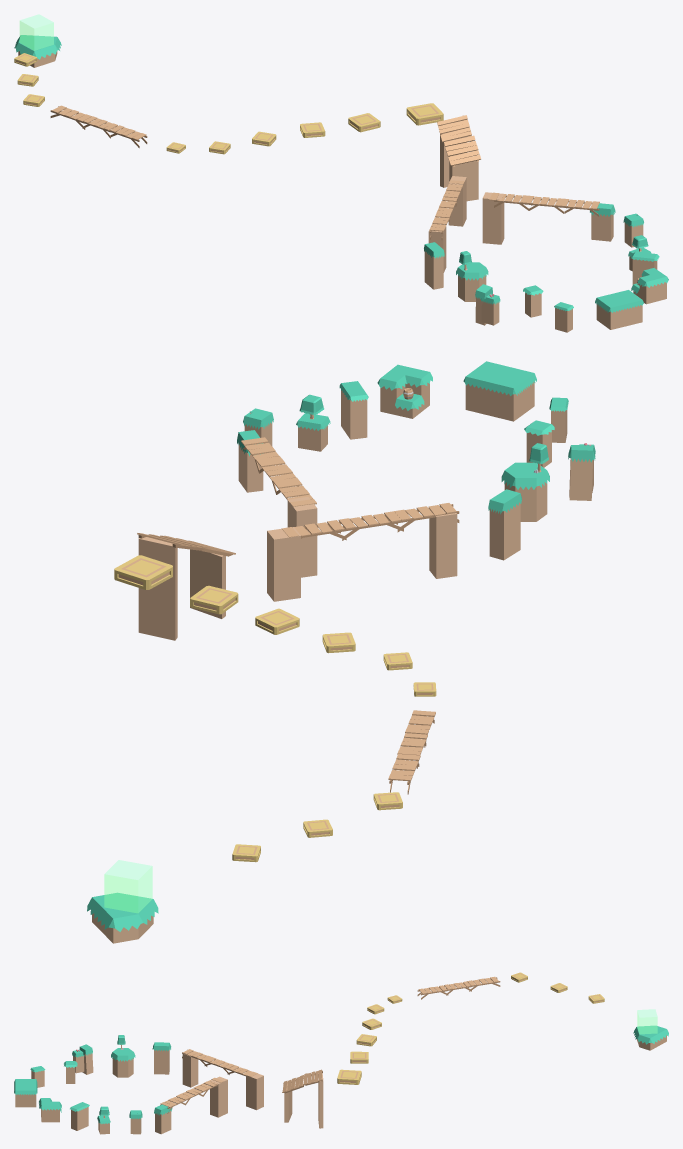
Rendered from map1.glb.
The picture shows the model from 3 angles, top to bottom: view 1: azimuth 30°, elevation 25°; view 2: azimuth 150°, elevation 25°; view 3: azimuth 270°, elevation 25°; orthographic projection. The views are drawn at different scales.
Parts seen in each view (by area): view 1: blockDirt(Clone) (×4), Mesh_bridgeRamp_1 (×2), Mesh_block_1 (×2), end, Mesh_blockEnd_1, Mesh_blockLarge_1, Mesh_blockLarge_0, Mesh_blockMoving_0, Mesh_blockHexagon_0, Mesh_blockLevel_0, Mesh_blockLevel_1; view 2: blockDirt(Clone) (×5), Mesh_block_1 (×4), end, Mesh_blockMoving_0 (×2), Mesh_blockEnd_1, Mesh_blockLarge_1, Mesh_blockLarge_0, Mesh_blockLevel_1, Mesh_blockLevel_0, Mesh_blockHexagon_0, Mesh_blockHexagon_1; view 3: blockDirt(Clone) (×5), Mesh_block_1 (×3), Mesh_blockEnd_1, end, Mesh_blockHexagon_0, Mesh_blockLarge_0, Mesh_blockMoving_0, Mesh_blockLarge_1, Mesh_blockHexagon_1.
Part boxes in pixels (x1,y1,x2,y2): blockDirt(Clone) (×4): [440, 119, 504, 244]; Mesh_bridgeRamp_1 (×2): [437, 115, 480, 165]; Mesh_block_1 (×2): [424, 213, 613, 289]; end: [19, 14, 53, 50]; Mesh_blockEnd_1: [14, 35, 61, 59]; Mesh_blockLarge_1: [596, 304, 642, 329]; Mesh_blockLarge_0: [595, 290, 643, 312]; Mesh_blockMoving_0: [406, 103, 443, 125]; Mesh_blockHexagon_0: [458, 275, 486, 301]; Mesh_blockLevel_0: [633, 276, 666, 304]; Mesh_blockLevel_1: [631, 268, 668, 293]; blockDirt(Clone) (×5): [138, 497, 457, 640]; Mesh_block_1 (×4): [238, 390, 592, 560]; end: [104, 860, 152, 913]; Mesh_blockMoving_0 (×2): [114, 555, 238, 614]; Mesh_blockEnd_1: [87, 892, 158, 931]; Mesh_blockLarge_1: [465, 382, 534, 421]; Mesh_blockLarge_0: [463, 361, 536, 395]; Mesh_blockLevel_1: [377, 364, 432, 410]; Mesh_blockLevel_0: [380, 382, 429, 418]; Mesh_blockHexagon_0: [504, 482, 547, 521]; Mesh_blockHexagon_1: [501, 462, 549, 489]; blockDirt(Clone) (×5): [182, 1052, 323, 1128]; Mesh_block_1 (×3): [71, 1050, 171, 1134]; Mesh_blockEnd_1: [633, 1025, 668, 1044]; end: [637, 1009, 657, 1034]; Mesh_blockHexagon_0: [112, 1058, 133, 1077]; Mesh_blockLarge_0: [14, 1079, 37, 1094]; Mesh_blockMoving_0: [337, 1069, 361, 1084]; Mesh_blockLarge_1: [15, 1094, 36, 1107]; Mesh_blockHexagon_1: [111, 1048, 135, 1061].
Bounding box in the file's own units: 847 × 147 × 1780.
